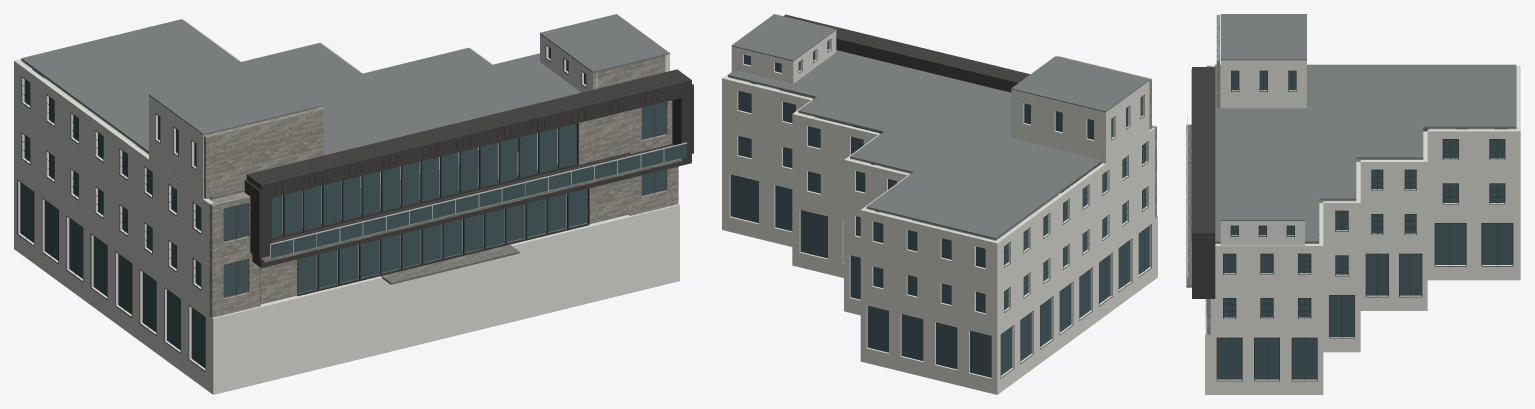
3 renders of one model, left to right at view 1: azimuth 30°, elevation 25°; view 2: azimuth 150°, elevation 25°; view 3: azimuth 270°, elevation 25°, orthographic. The views are drawn at different scales.
Parts seen in each view (by area): view 1: facultyHouse__cream, facultyHouse__roof, facultyHouse__glass, facultyHouse__salmon, facultyHouse__stone, facultyHouse__frame, facultyHouse__rough, facultyHouse__light; view 2: facultyHouse__cream, facultyHouse__roof, facultyHouse__glass, facultyHouse__salmon, facultyHouse__frame, facultyHouse__stone; view 3: facultyHouse__cream, facultyHouse__roof, facultyHouse__glass, facultyHouse__salmon, facultyHouse__frame, facultyHouse__rough, facultyHouse__stone.
Part boxes in pixels (x1,y1,x2,y2): facultyHouse__cream: (14,19,679,394); facultyHouse__roof: (21,14,669,293); facultyHouse__glass: (20,47,686,368); facultyHouse__salmon: (244,69,693,267); facultyHouse__stone: (203,56,678,317); facultyHouse__frame: (17,45,685,371); facultyHouse__rough: (260,158,682,284); facultyHouse__light: (270,142,686,258); facultyHouse__cream: (722,30,1157,394); facultyHouse__roof: (728,14,1149,240); facultyHouse__glass: (730,41,1149,377); facultyHouse__salmon: (784,14,1101,168); facultyHouse__frame: (798,39,1151,378); facultyHouse__stone: (780,56,1156,217); facultyHouse__cream: (1205,60,1520,394); facultyHouse__roof: (1215,14,1516,243); facultyHouse__glass: (1217,71,1512,379); facultyHouse__salmon: (1192,67,1215,298); facultyHouse__frame: (1191,69,1513,381); facultyHouse__rough: (1186,124,1191,287); facultyHouse__stone: (1206,15,1219,334).
Size of the model in its own units: 44.14 by 22.61 by 34.14.
8 materials, 2 textured.
